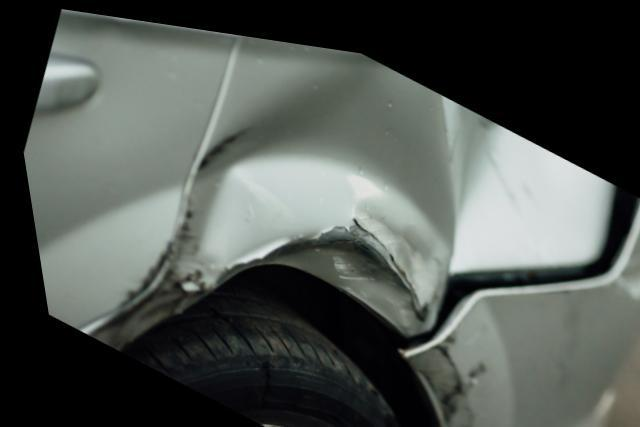dent: (157, 41, 614, 325)
scratch: (93, 215, 194, 336), (401, 315, 481, 427)
